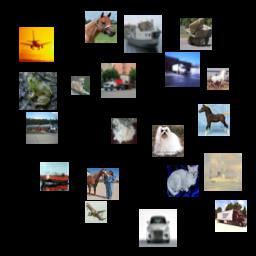airplane: (19, 27, 54, 62), (85, 201, 107, 223)
automobile: (139, 209, 177, 247)
cat: (167, 165, 199, 197)
dog: (152, 125, 184, 157), (111, 118, 137, 144), (71, 76, 90, 95)
frog: (19, 72, 57, 110)
ship: (204, 153, 242, 191), (124, 15, 162, 53), (40, 162, 69, 191)
truck: (101, 63, 136, 98), (165, 52, 200, 87), (180, 18, 212, 50), (26, 112, 58, 144), (215, 200, 247, 232)
